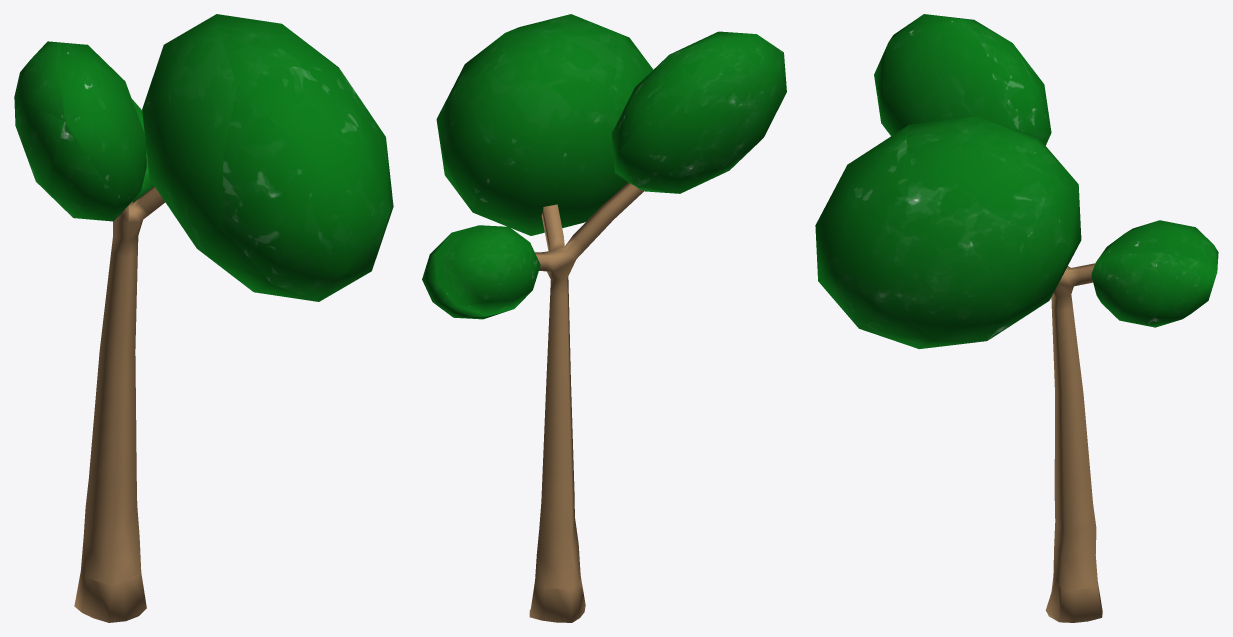
File: tree.glb
3 views of the same model, side by side, from view 1: azimuth 30°, elevation 25°; view 2: azimuth 150°, elevation 25°; view 3: azimuth 270°, elevation 25° (orthographic). The views are drawn at different scales.
Parts seen in each view (by area): view 1: tree_joined.002; view 2: tree_joined.002; view 3: tree_joined.002.
Part boxes in pixels (<box>): tree_joined.002: <box>14,14,393,622</box>; tree_joined.002: <box>422,14,786,622</box>; tree_joined.002: <box>815,14,1218,622</box>.
Size of the model in its own units: 1.02 by 1.78 by 1.19.
Materials: 1 (1 with a texture image).
